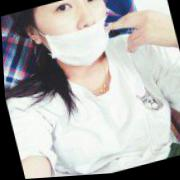WRONG: (39, 1, 122, 74)
